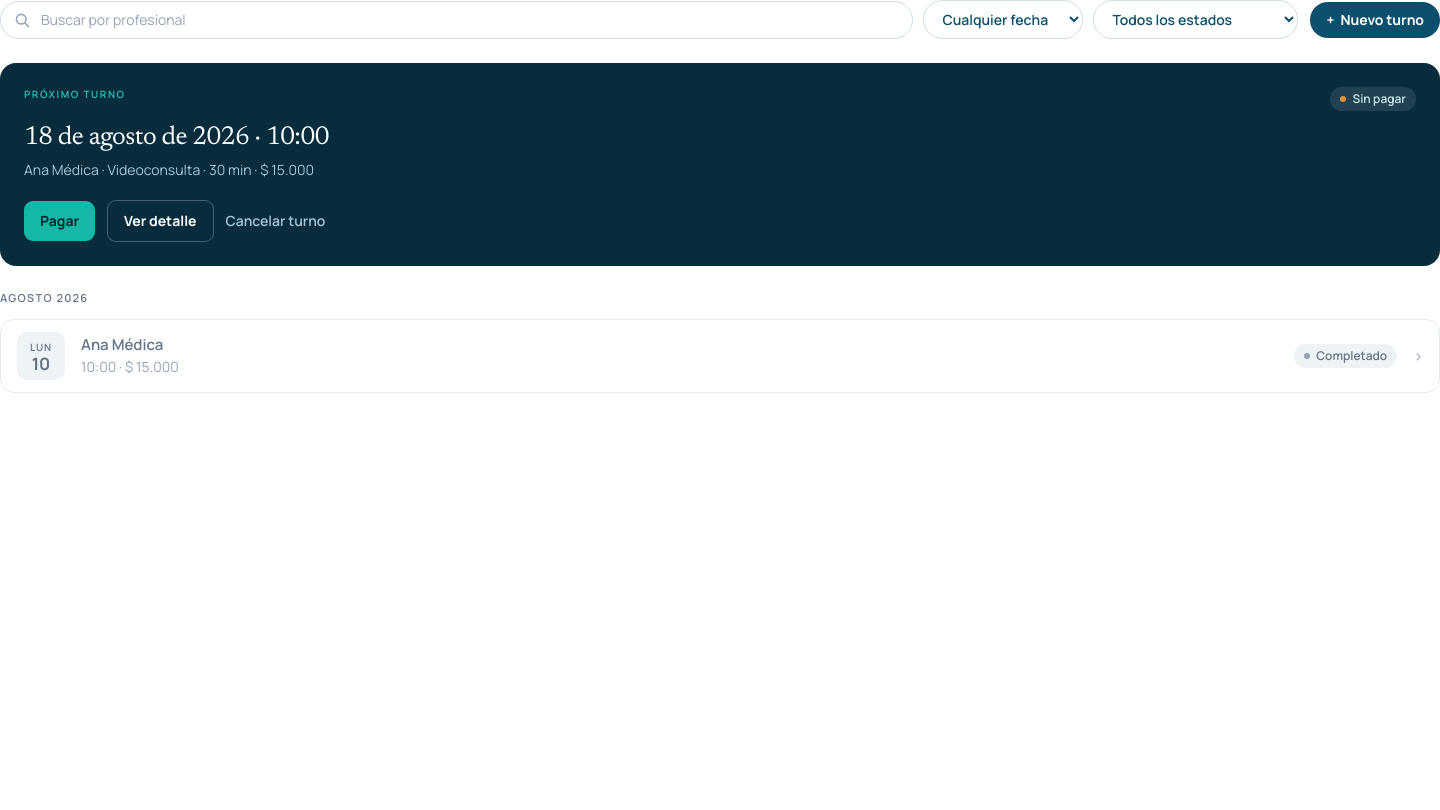
Test case: MyAppointments (ENG-178) › en pantalla ancha › tocar un turno abre su detalle en un panel lateral, que se cierra con la ✕
Click the link named "Ver el turno con Ana Médica" at (41, 356), box [1, 320, 1439, 392]
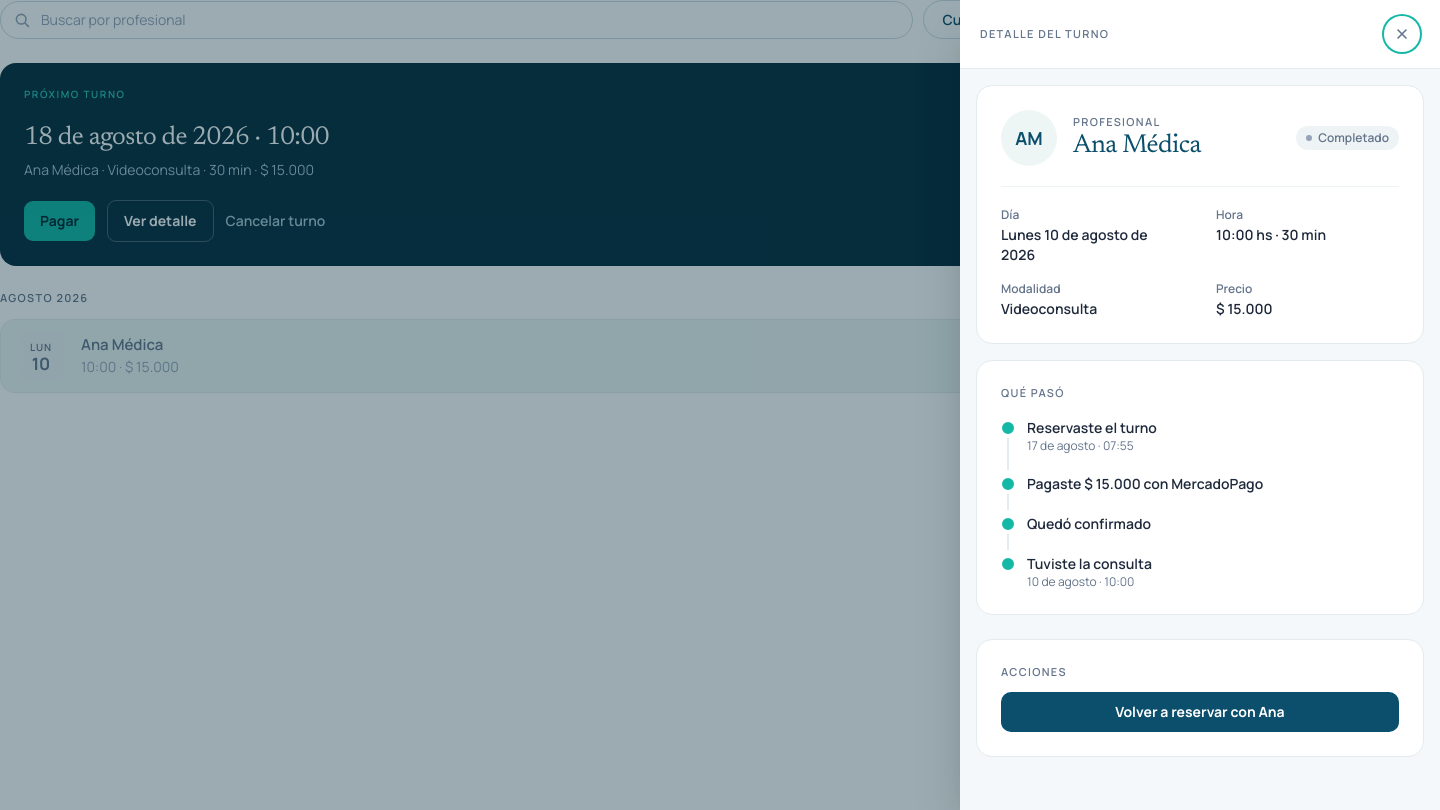
Expected: the text "Tuviste la consulta" is shown, [1027, 554, 1152, 574]
Click the button named "Cerrar" at (1402, 34), box [1384, 16, 1420, 52]
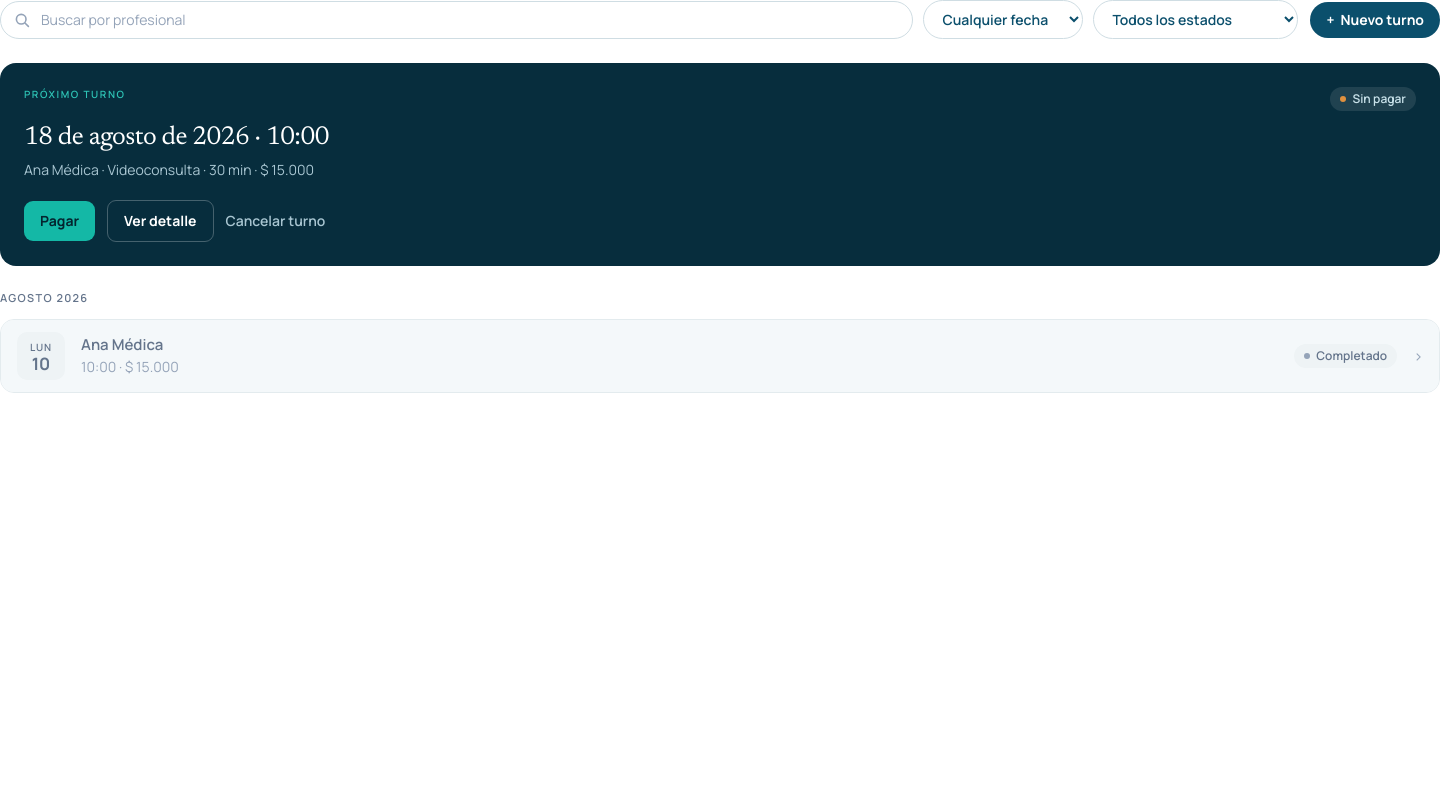
Expected: the heading "Detalle del turno" is gone
